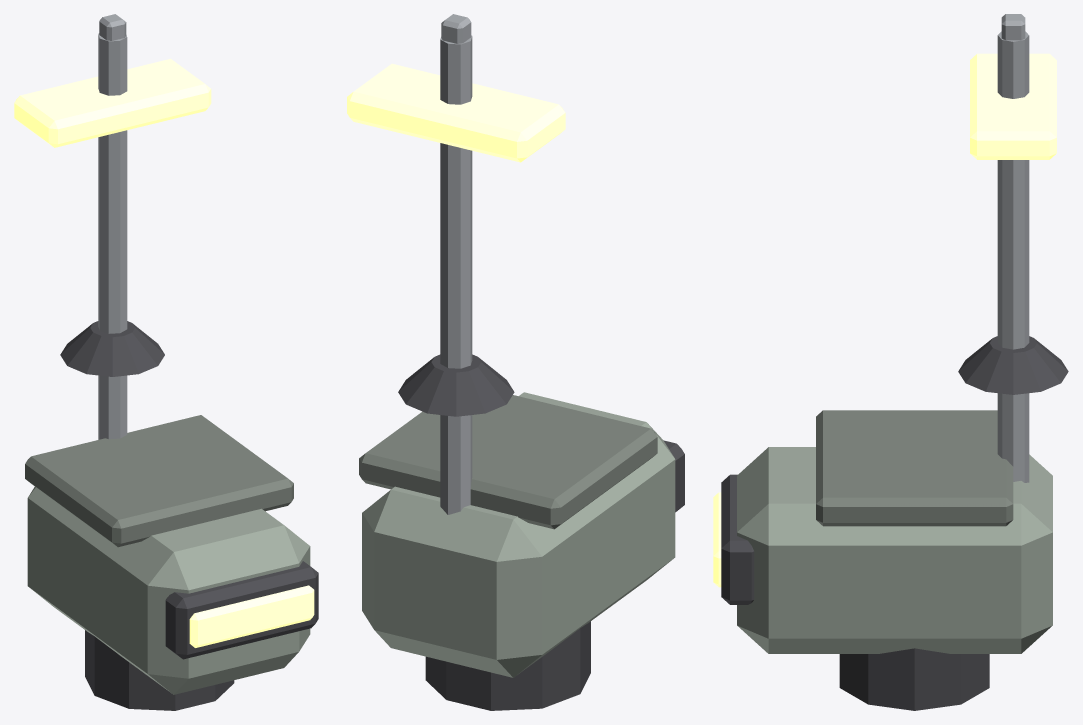
File: light-head.glb
3 renders of one model, left to right at view 1: azimuth 30°, elevation 25°; view 2: azimuth 150°, elevation 25°; view 3: azimuth 270°, elevation 25°, orthographic. The views are drawn at different scales.
Visible parts, largest first — view 1: head; view 2: head; view 3: head.
Part boxes in pixels (box(x1,y1,x2,y2)): head: box(14, 14, 318, 710); head: box(347, 14, 684, 710); head: box(713, 14, 1068, 710).
Bounding box in the file's own units: 0.56 × 1.85 × 0.9.
